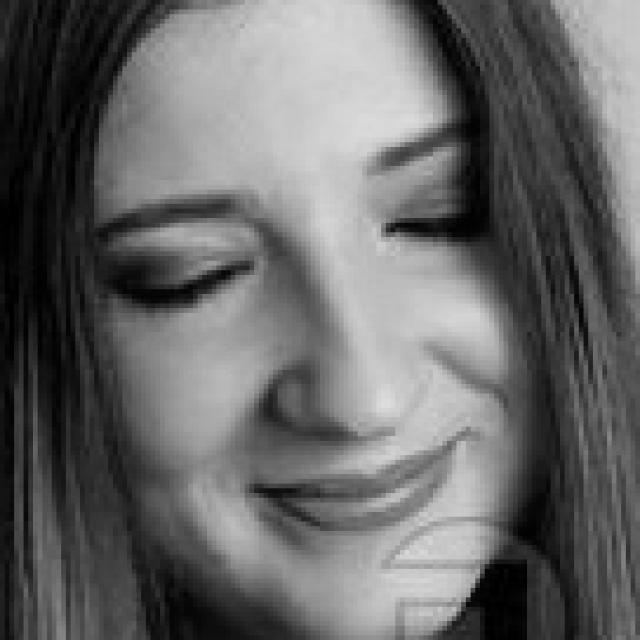real: (83, 19, 565, 615), (123, 176, 502, 328)
